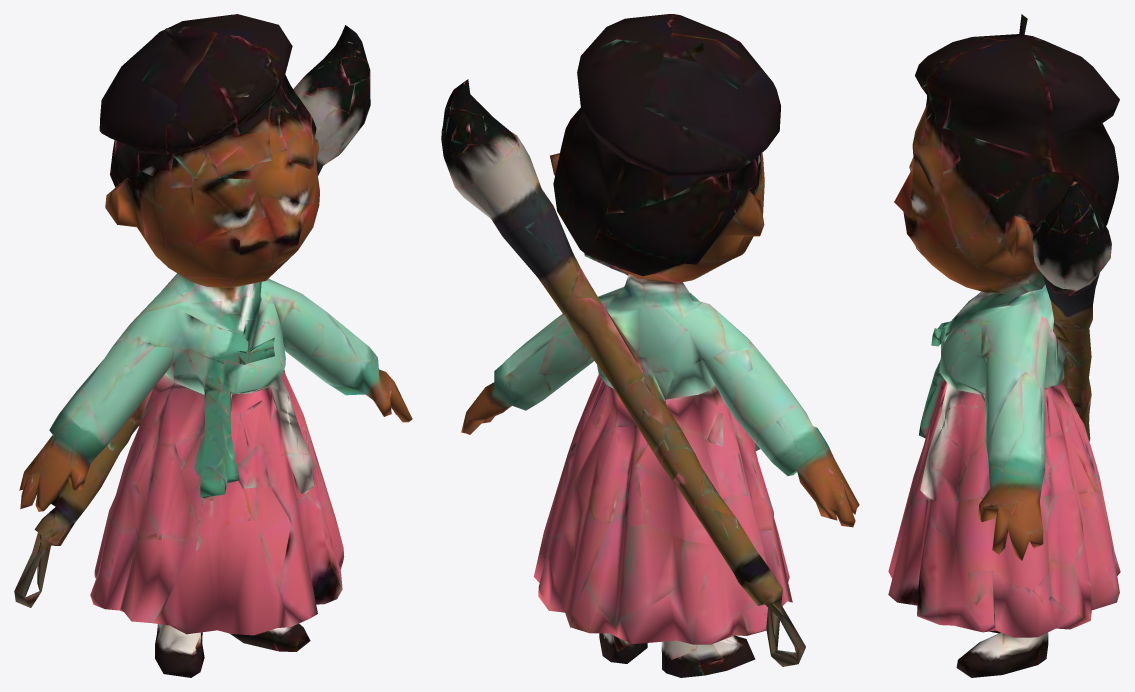
The model's file is hero-saimdang-lod-v1.glb.
3 renders of one model, left to right at view 1: azimuth 30°, elevation 25°; view 2: azimuth 150°, elevation 25°; view 3: azimuth 270°, elevation 25°, orthographic. The views are drawn at different scales.
Bounding box in the file's own units: 1.23 × 1.9 × 0.6573.
1 material, 1 textured.
